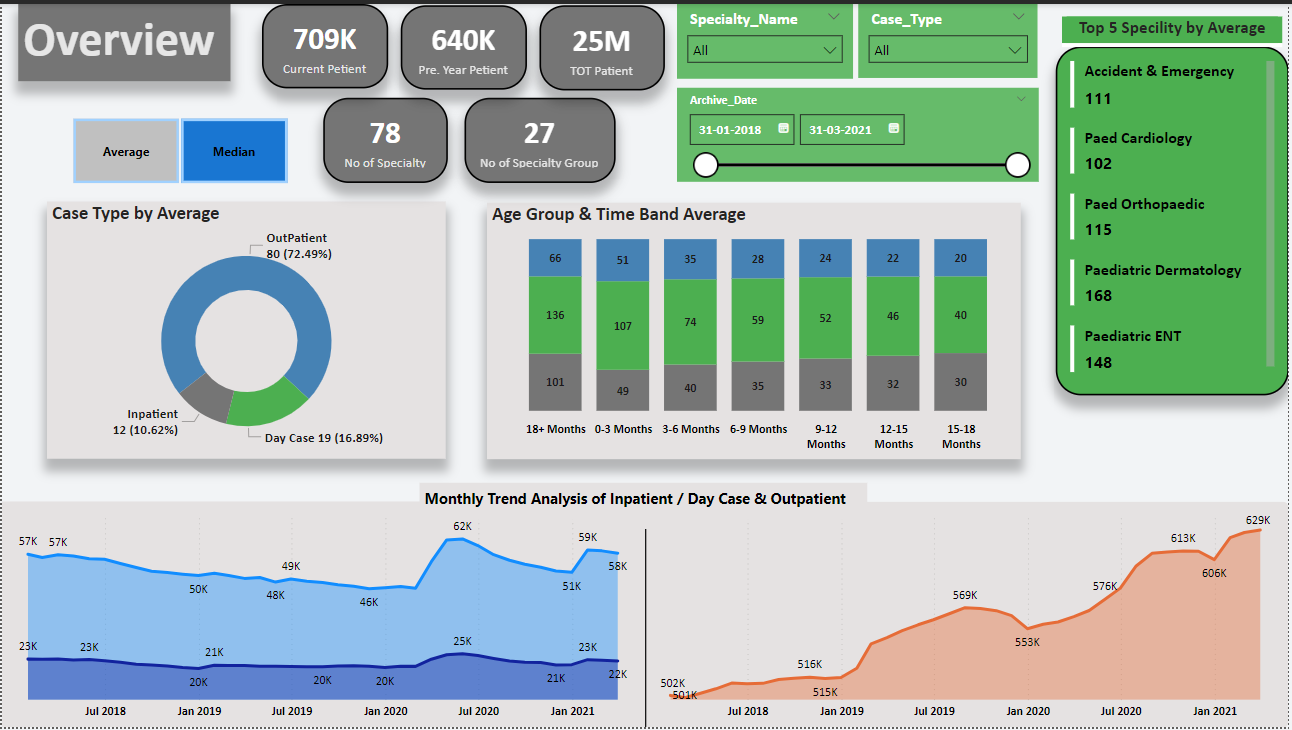

Layout of this report page (visuals, bound fields, positions):
{"tool":"powerbi","page":{"name":"Overview","canvas":[1280,720],"ordinal":1},"visuals":[{"type":"shape","box":[0,495.3,1280,225.4],"z":500},{"type":"slicer","fields":{"Values":["AVG & MED.Menu"]},"box":[44.3,107.1,262.9,78.6],"z":1000},{"type":"donutChart","fields":{"Category":["Main DataSet.Case_Type"],"Y":["All Measures.Avg & Med"]},"box":[44.3,197.1,397.1,255.7],"z":2000},{"type":"shape","box":[628.5,522.8,22,197.6],"z":2500},{"type":"hundredPercentStackedColumnChart","fields":{"Y":["All Measures.Avg & Med"],"Category":["Main DataSet.Time_Bands"],"Series":["Main DataSet.Age_Profile"]},"box":[483,197.6,531,255.2],"z":3000},{"type":"multiRowCard","fields":{"Values":["Main DataSet.Specialty_Name","All Measures.Avg & Med"]},"box":[1048.4,42.5,231.9,347.2],"z":4000},{"type":"areaChart","fields":{"Y":["Sum(Main DataSet.Total)"],"Series":["Main DataSet.Case_Type"],"Category":["Main DataSet.Archive_Date"]},"box":[640,495.3,640,225.4],"z":6000},{"type":"areaChart","fields":{"Y":["Sum(Main DataSet.Total)"],"Series":["Main DataSet.Case_Type"],"Category":["Main DataSet.Archive_Date"]},"box":[0,495.3,640,225.4],"z":6125},{"type":"card","fields":{"Values":["All Measures.Day Case"]},"box":[148,574.7,293.6,93.3],"z":6562},{"type":"slicer","fields":{"Values":["Main DataSet.Archive_Date"]},"box":[671.2,83.8,360,93.8],"z":7000},{"type":"slicer","fields":{"Values":["Main DataSet.Case_Type"]},"box":[852.5,0,178.8,73.8],"z":8000},{"type":"slicer","fields":{"Values":["Mapping_Specialty.Specialty"]},"box":[671.4,0,175,74.3],"z":9000},{"type":"card","fields":{"Values":["Count(Mapping_Specialty.Specialty)"]},"box":[320,92.9,124.3,85],"z":10000},{"type":"card","fields":{"Values":["Count(Mapping_Specialty.Specialty Group)"]},"box":[459.7,93.3,150,85],"z":11000},{"type":"card","fields":{"Values":["All Measures.Current Petient"]},"box":[258.6,0,125.7,84.3],"z":12000},{"type":"card","fields":{"Values":["All Measures.Pre. Year Petient"]},"box":[397.1,1.4,125.7,84.3],"z":13000},{"type":"card","fields":{"Values":["All Measures.TOT Patient"]},"box":[534.9,0.7,125,85],"z":14000},{"type":"textbox","box":[15.7,0,211.4,77.1],"z":15000},{"type":"textbox","box":[1055.2,12.3,219.6,30.2],"z":17000},{"type":"textbox","box":[415.8,476.2,446,37],"z":18000},{"type":"card","fields":{"Values":["All Measures.OUT Case"]},"box":[813.9,562.1,293.6,93.2],"z":18001}]}

Visuals, with their boxes in screenshot pixels (x1, y1, x2, y2), scaled from the page's 1280x720 canvas onto the 1292x730 screenshot:
shape: bbox=[0, 502, 1291, 729]
slicer - AVG & MED.Menu: bbox=[45, 109, 310, 188]
donutChart - Main DataSet.Case_Type x All Measures.Avg & Med: bbox=[45, 200, 446, 459]
shape: bbox=[634, 530, 657, 729]
hundredPercentStackedColumnChart - All Measures.Avg & Med x Main DataSet.Time_Bands: bbox=[488, 200, 1024, 459]
multiRowCard - Main DataSet.Specialty_Name x All Measures.Avg & Med: bbox=[1058, 43, 1291, 395]
areaChart - Sum(Main DataSet.Total) x Main DataSet.Case_Type: bbox=[646, 502, 1291, 729]
areaChart - Sum(Main DataSet.Total) x Main DataSet.Case_Type: bbox=[0, 502, 646, 729]
card - All Measures.Day Case: bbox=[149, 583, 446, 677]
slicer - Main DataSet.Archive_Date: bbox=[677, 85, 1041, 180]
slicer - Main DataSet.Case_Type: bbox=[860, 0, 1041, 75]
slicer - Mapping_Specialty.Specialty: bbox=[678, 0, 854, 75]
card - Count(Mapping_Specialty.Specialty): bbox=[323, 94, 448, 180]
card - Count(Mapping_Specialty.Specialty Group): bbox=[464, 95, 615, 181]
card - All Measures.Current Petient: bbox=[261, 0, 388, 85]
card - All Measures.Pre. Year Petient: bbox=[401, 1, 528, 87]
card - All Measures.TOT Patient: bbox=[540, 1, 666, 87]
textbox: bbox=[16, 0, 229, 78]
textbox: bbox=[1065, 12, 1287, 43]
textbox: bbox=[420, 483, 870, 520]
card - All Measures.OUT Case: bbox=[822, 570, 1118, 664]
